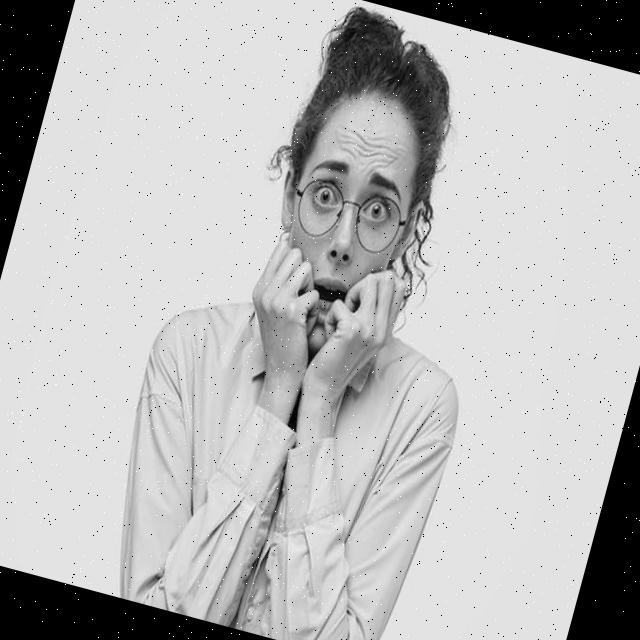Fear: (256, 87, 434, 362)
